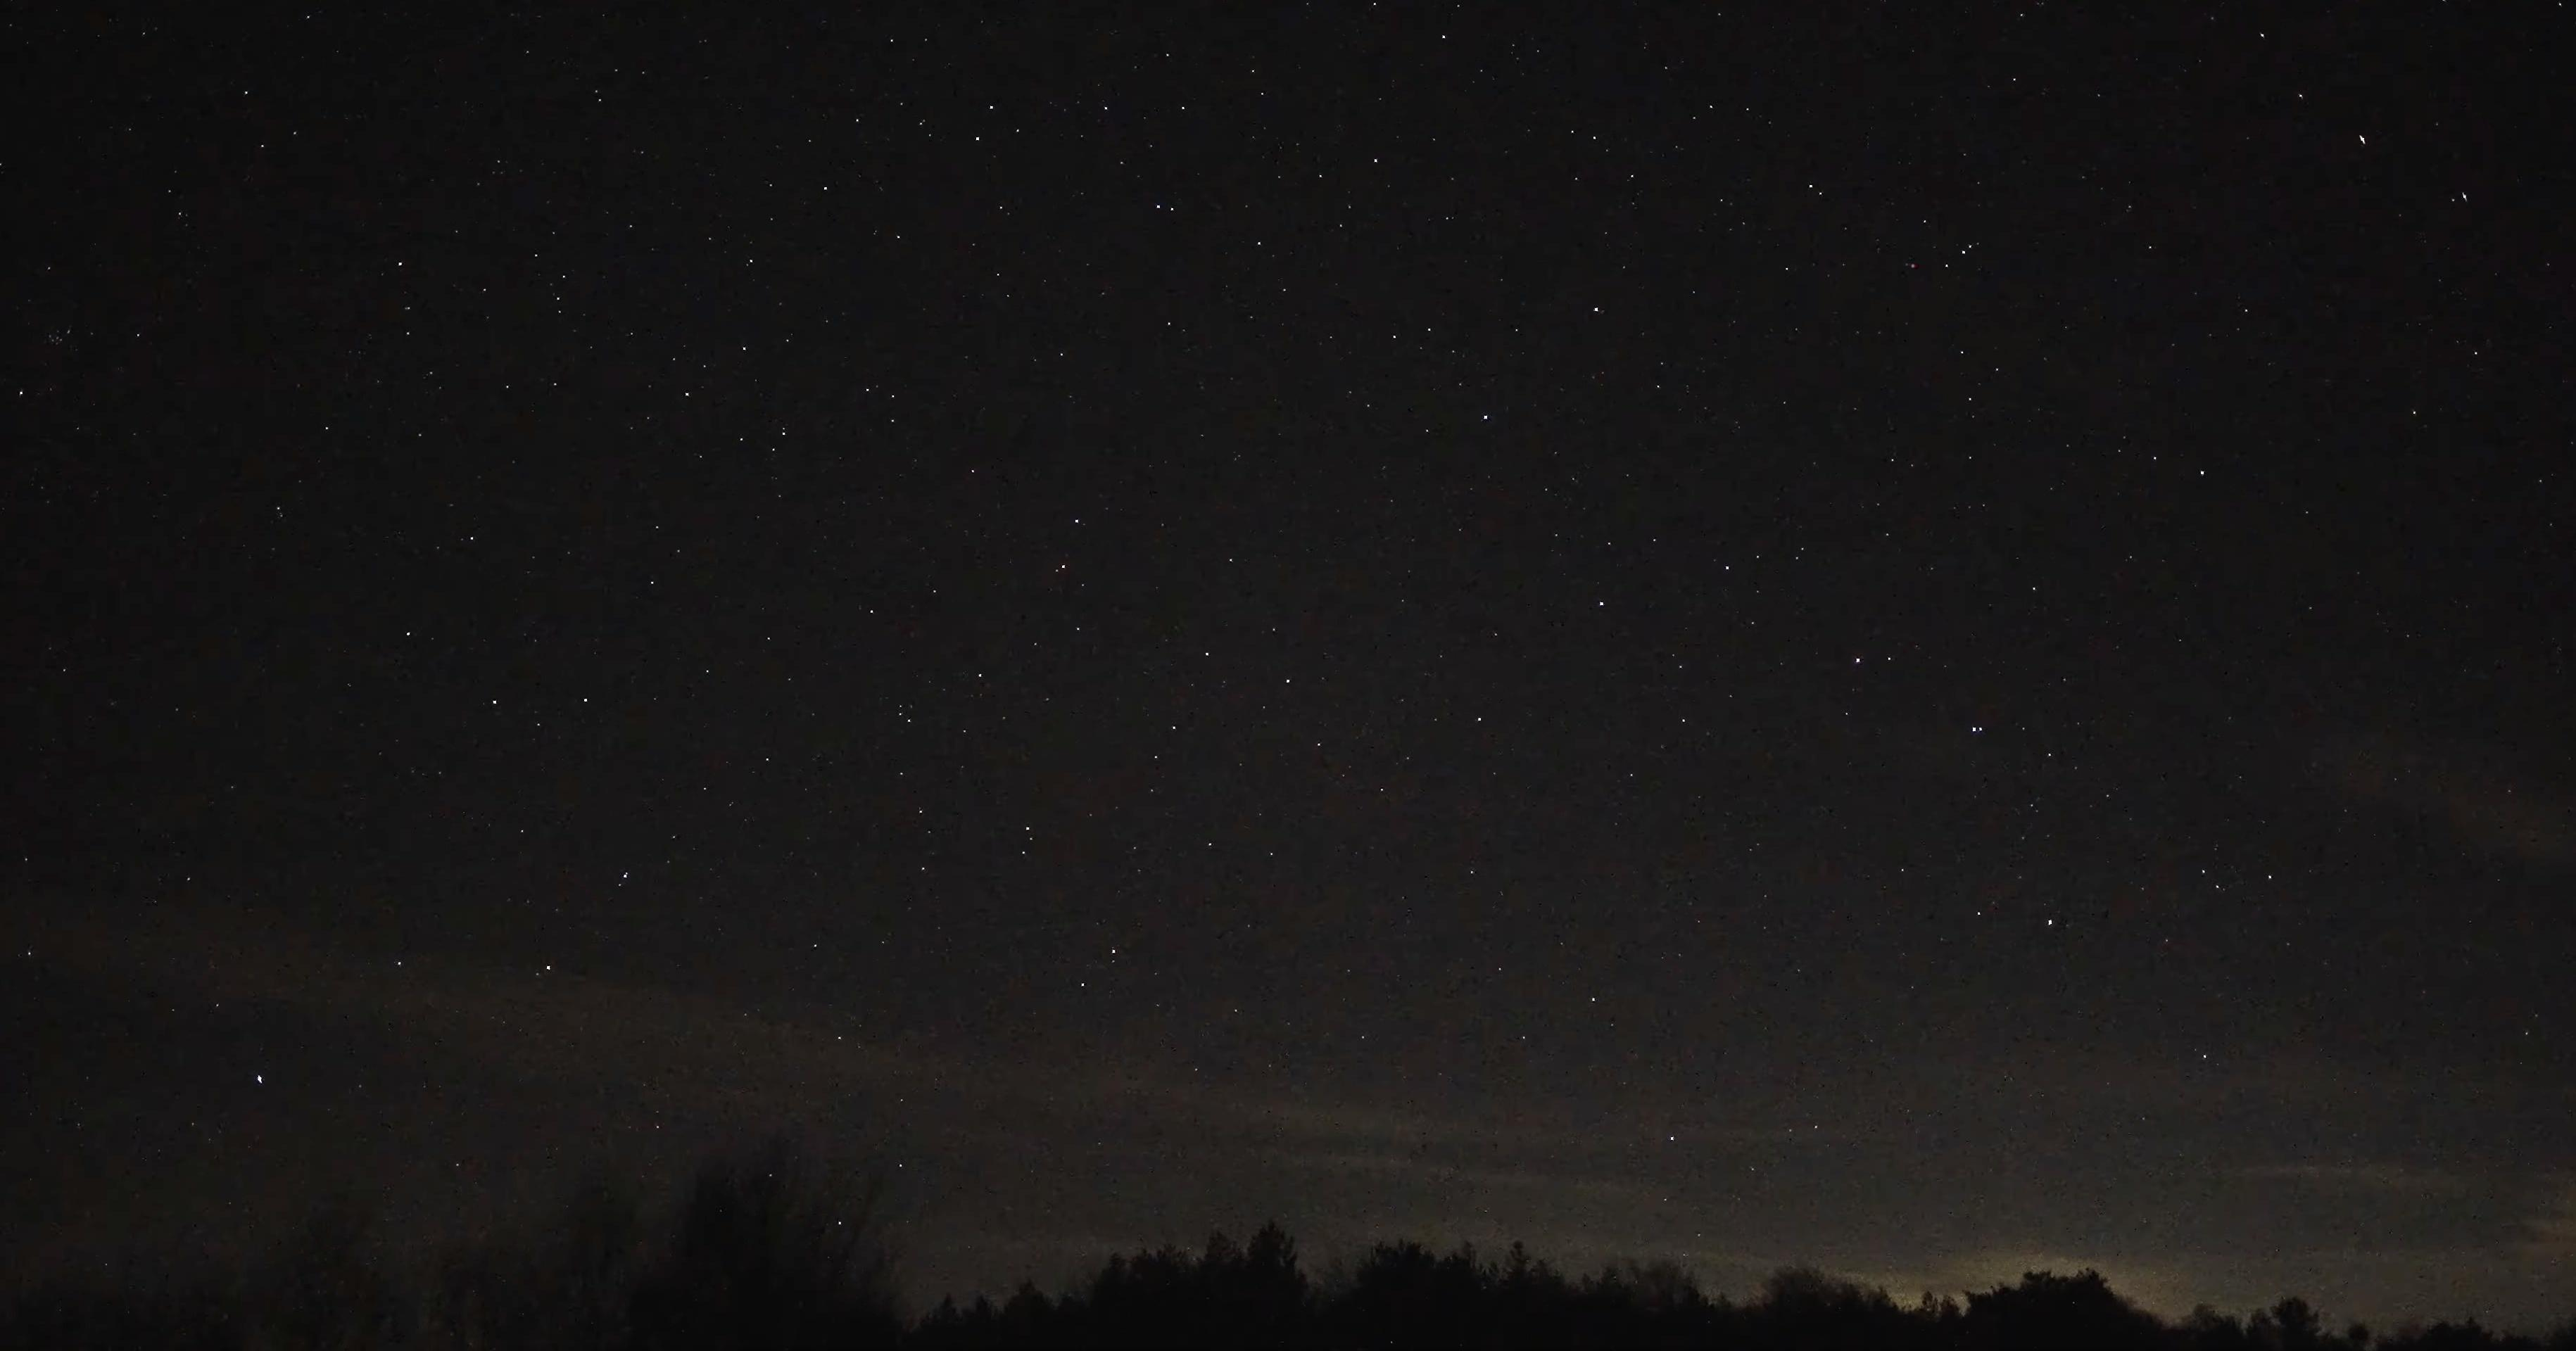Plane: (1886, 252, 1937, 278)
